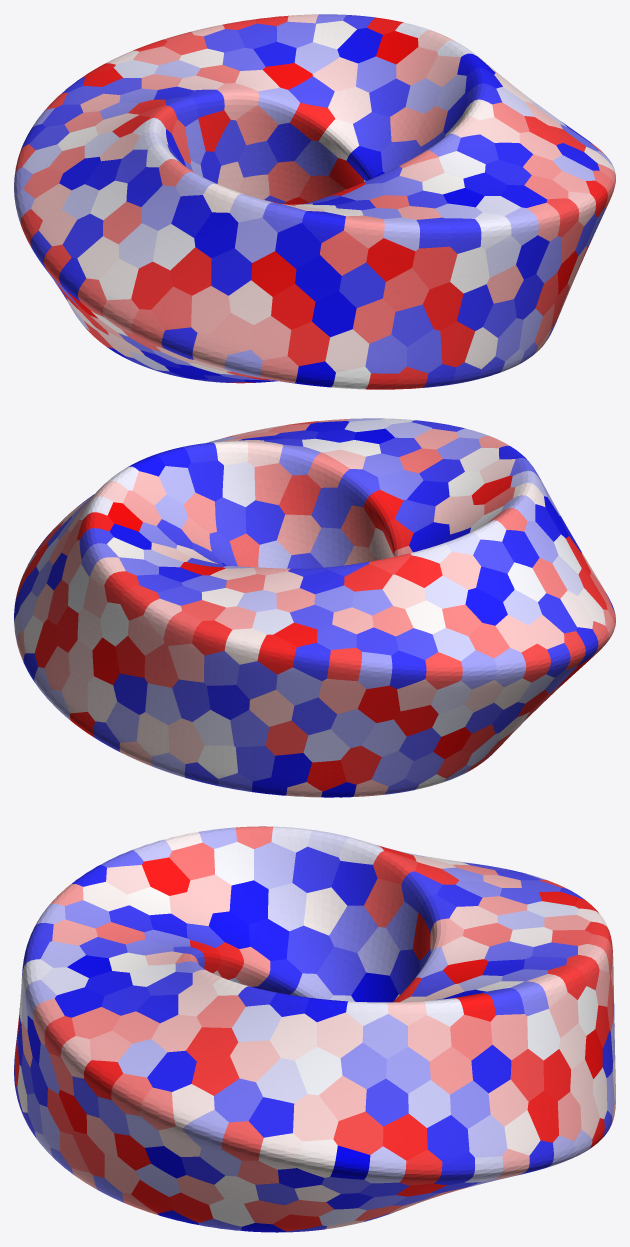
File: Ours_600_mobius1_Iter42_RVD.obj
The picture shows the model from 3 angles, top to bottom: view 1: azimuth 30°, elevation 25°; view 2: azimuth 150°, elevation 25°; view 3: azimuth 270°, elevation 25°; orthographic projection. The views are drawn at different scales.
Visible parts, largest first — view 1: 3D_Object; view 2: 3D_Object; view 3: 3D_Object.
Part boxes in pixels (x1,y1,x2,y2): 3D_Object: [14, 14, 615, 389]; 3D_Object: [14, 418, 615, 797]; 3D_Object: [14, 826, 615, 1232].
Bounding box in the file's own units: 6.8 × 2.63 × 6.26.
1 material, 1 textured.
